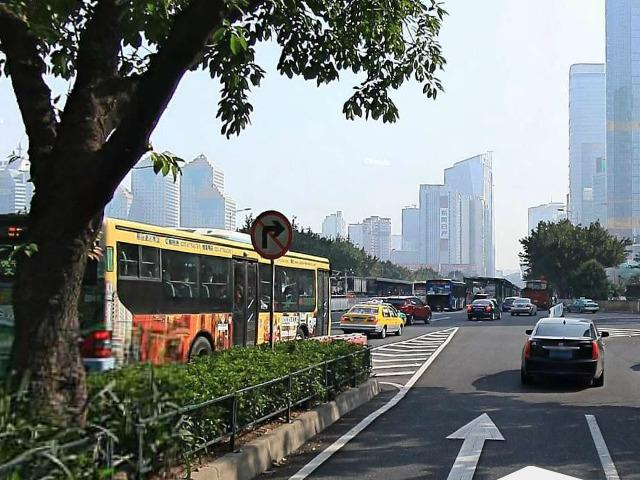not_turn_right: (247, 210, 300, 262)
